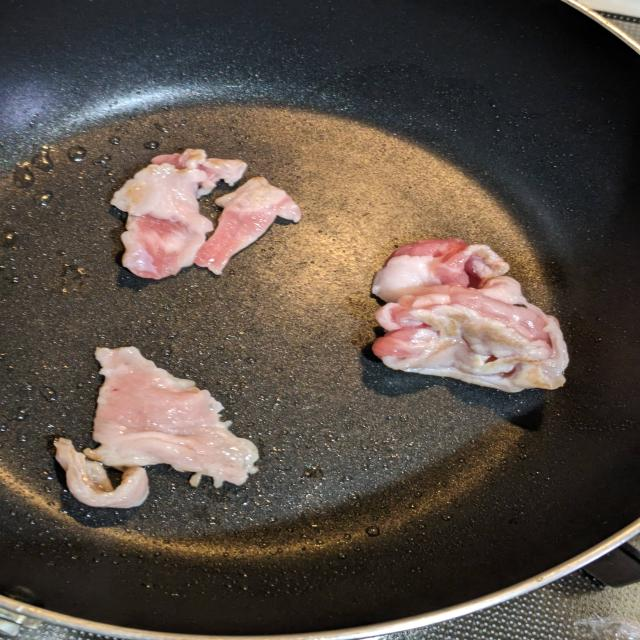NG undercooked pork,: (46, 341, 265, 518), (348, 235, 572, 397), (103, 147, 306, 287)
